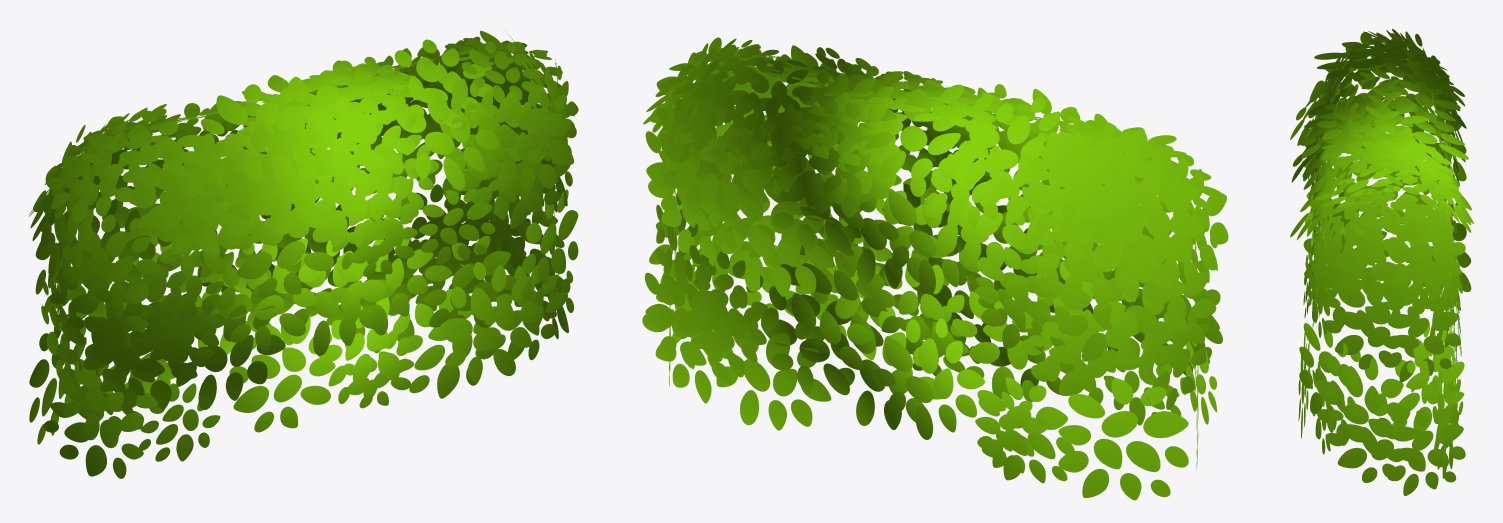
Rendered from bush_b.glb.
3 renders of one model, left to right at view 1: azimuth 30°, elevation 25°; view 2: azimuth 150°, elevation 25°; view 3: azimuth 270°, elevation 25°, orthographic. The views are drawn at different scales.
Bounding box in the file's own units: 1.9 × 1.22 × 0.7238.
Materials: 1 (1 with a texture image).
